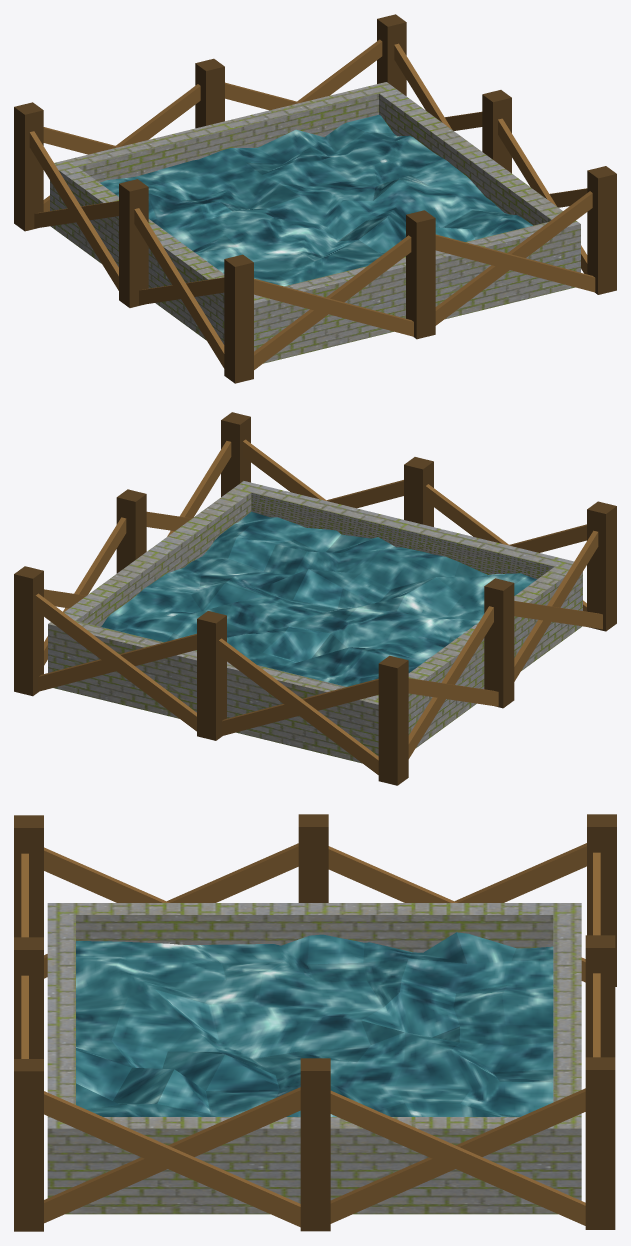
File: fence.obj
3 views of the same model, one above another, from view 1: azimuth 30°, elevation 25°; view 2: azimuth 150°, elevation 25°; view 3: azimuth 270°, elevation 25° (orthographic). The views are drawn at different scales.
Parts seen in each view (by area): view 1: flume_support_brace.001_flume_support_brace.004, Plane, PAVIMETN_Cube.002; view 2: flume_support_brace.001_flume_support_brace.004, Plane, PAVIMETN_Cube.002; view 3: Plane, flume_support_brace.001_flume_support_brace.004, PAVIMETN_Cube.002.
Part boxes in pixels (bbox=[...]): flume_support_brace.001_flume_support_brace.004: bbox=[14, 14, 616, 383]; Plane: bbox=[100, 114, 532, 286]; PAVIMETN_Cube.002: bbox=[50, 82, 580, 363]; flume_support_brace.001_flume_support_brace.004: bbox=[14, 412, 616, 785]; Plane: bbox=[101, 511, 536, 686]; PAVIMETN_Cube.002: bbox=[48, 481, 582, 763]; Plane: bbox=[76, 932, 553, 1116]; flume_support_brace.001_flume_support_brace.004: bbox=[14, 814, 616, 1231]; PAVIMETN_Cube.002: bbox=[47, 903, 581, 1214].
Size of the model in its own units: 77.87 by 22.62 by 77.14.
3 materials, 3 textured.
